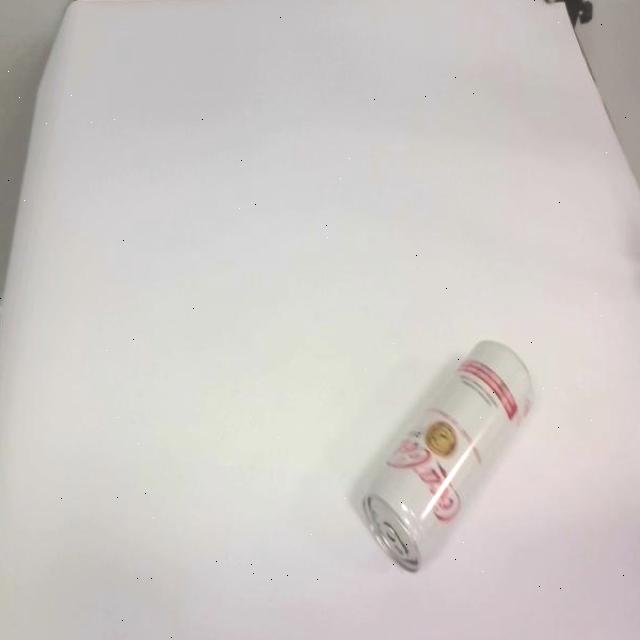debris: (350, 338, 534, 575)
